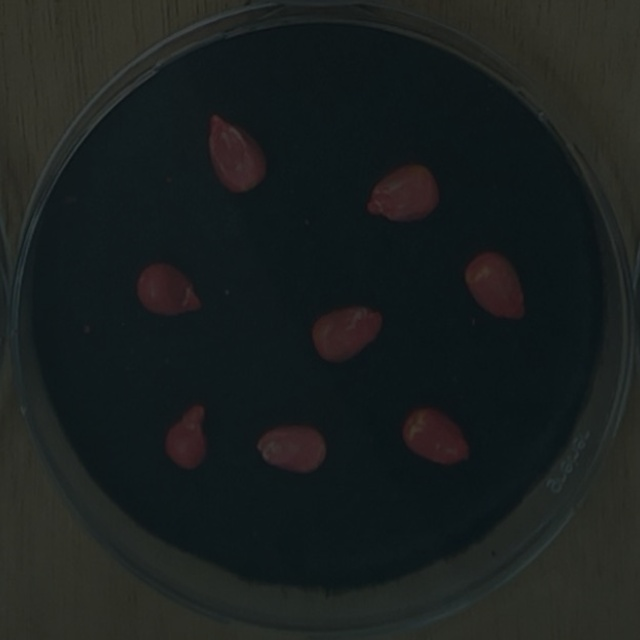Zea mays: (200, 106, 273, 199), (359, 154, 448, 228), (304, 296, 391, 371), (457, 243, 532, 328), (395, 399, 478, 474), (129, 254, 211, 325), (251, 416, 334, 480), (158, 397, 215, 478)
